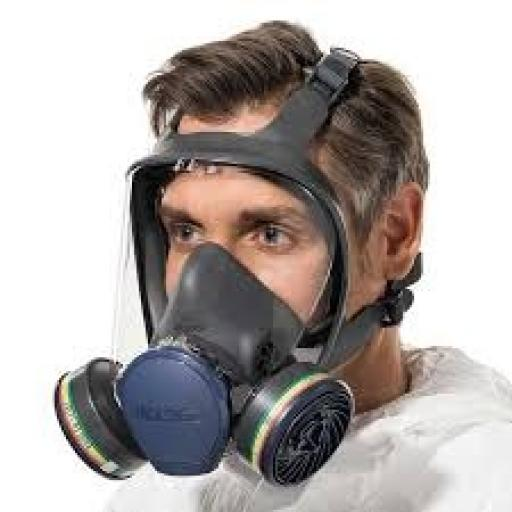mask: (40, 237, 363, 483)
